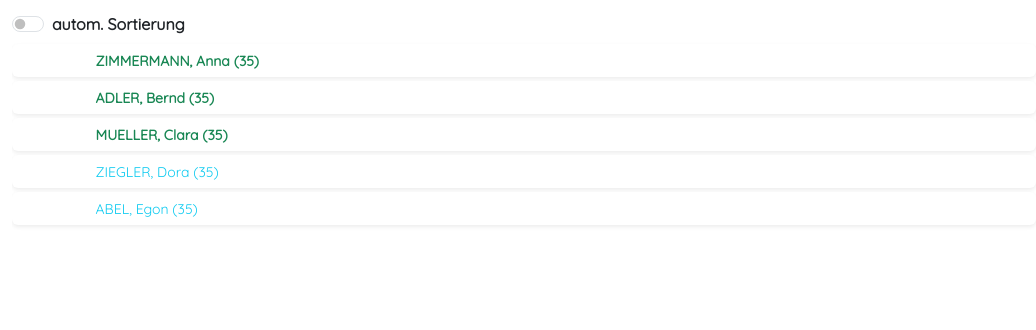
SingleCastList › autom. Sortierung (choirjobs only) › colors regular/standby by the GLOBAL sorted index, not a per-group index
Click the switch labelled "autom. Sortierung": (28, 24) [12,16,44,32]
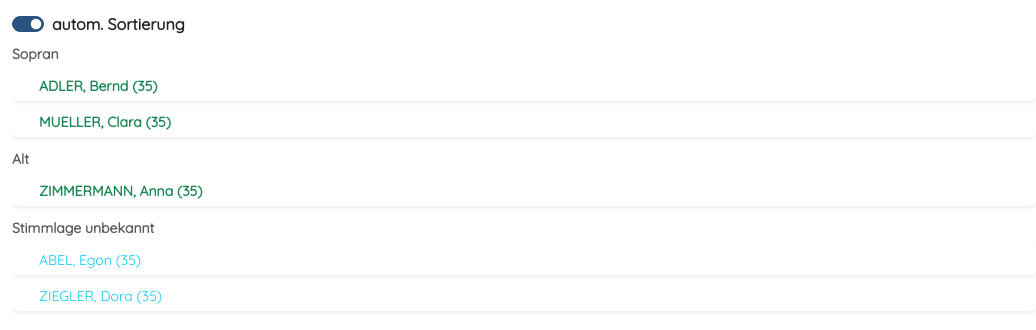
Expected: the element showing "ADLER, Bernd (35)" is shown, [20,77,158,95]
Expected: the element showing "ZIMMERMANN, Anna (35)" is shown, [20,182,202,200]
Expected: the element showing "ABEL, Egon (35)" is shown, [20,251,141,269]
